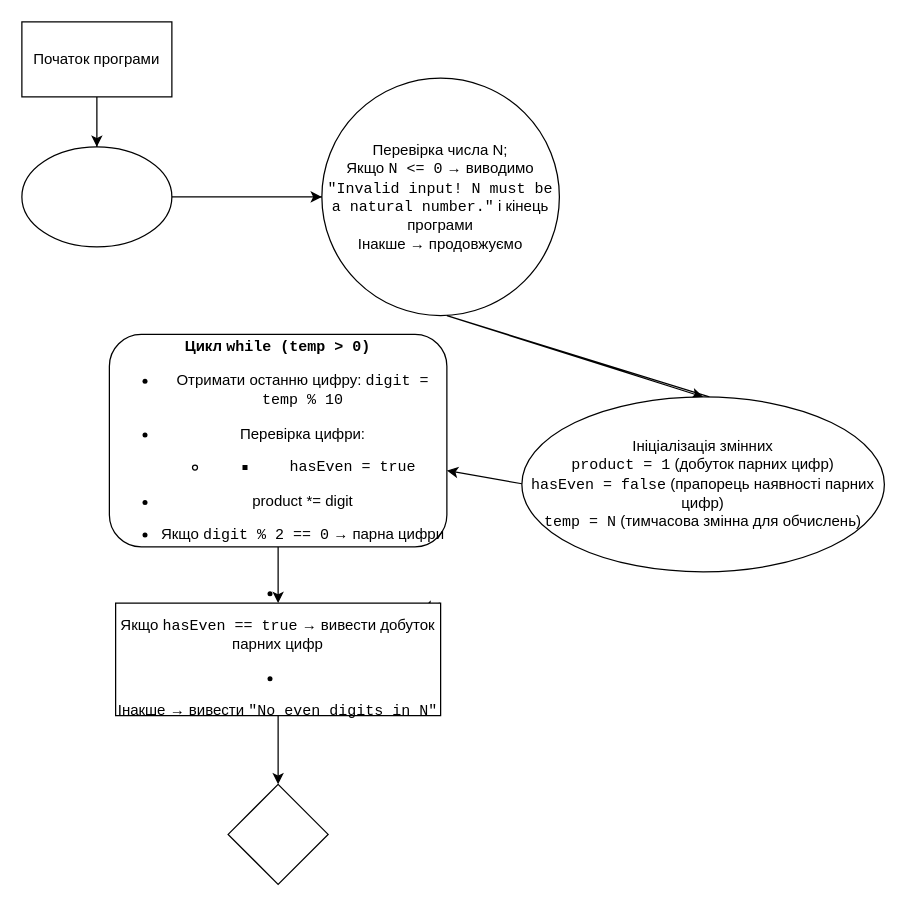
Some shapes in this 906 by 906 pixel diagram are drawn without their labels. Here are the shapes that lost their labels. From the top down, the centre of each, then its label:
At (96,196): "Ввід числа N".
At (277,833): "Кінець програми".
